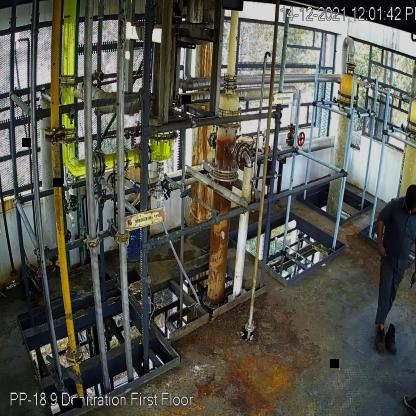shoes: (386, 323, 399, 357), (374, 327, 386, 355)
